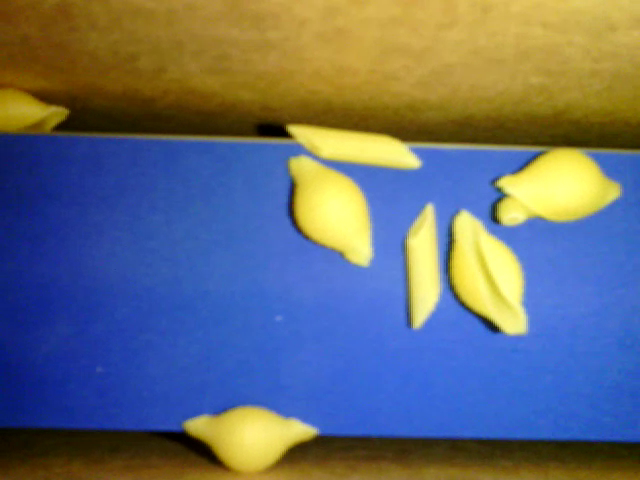elbow: (492, 193, 547, 226)
penne: (285, 123, 426, 172), (407, 202, 444, 332)
shell: (444, 205, 528, 336), (287, 153, 374, 268), (491, 146, 622, 222), (180, 404, 320, 474), (1, 85, 72, 132)
